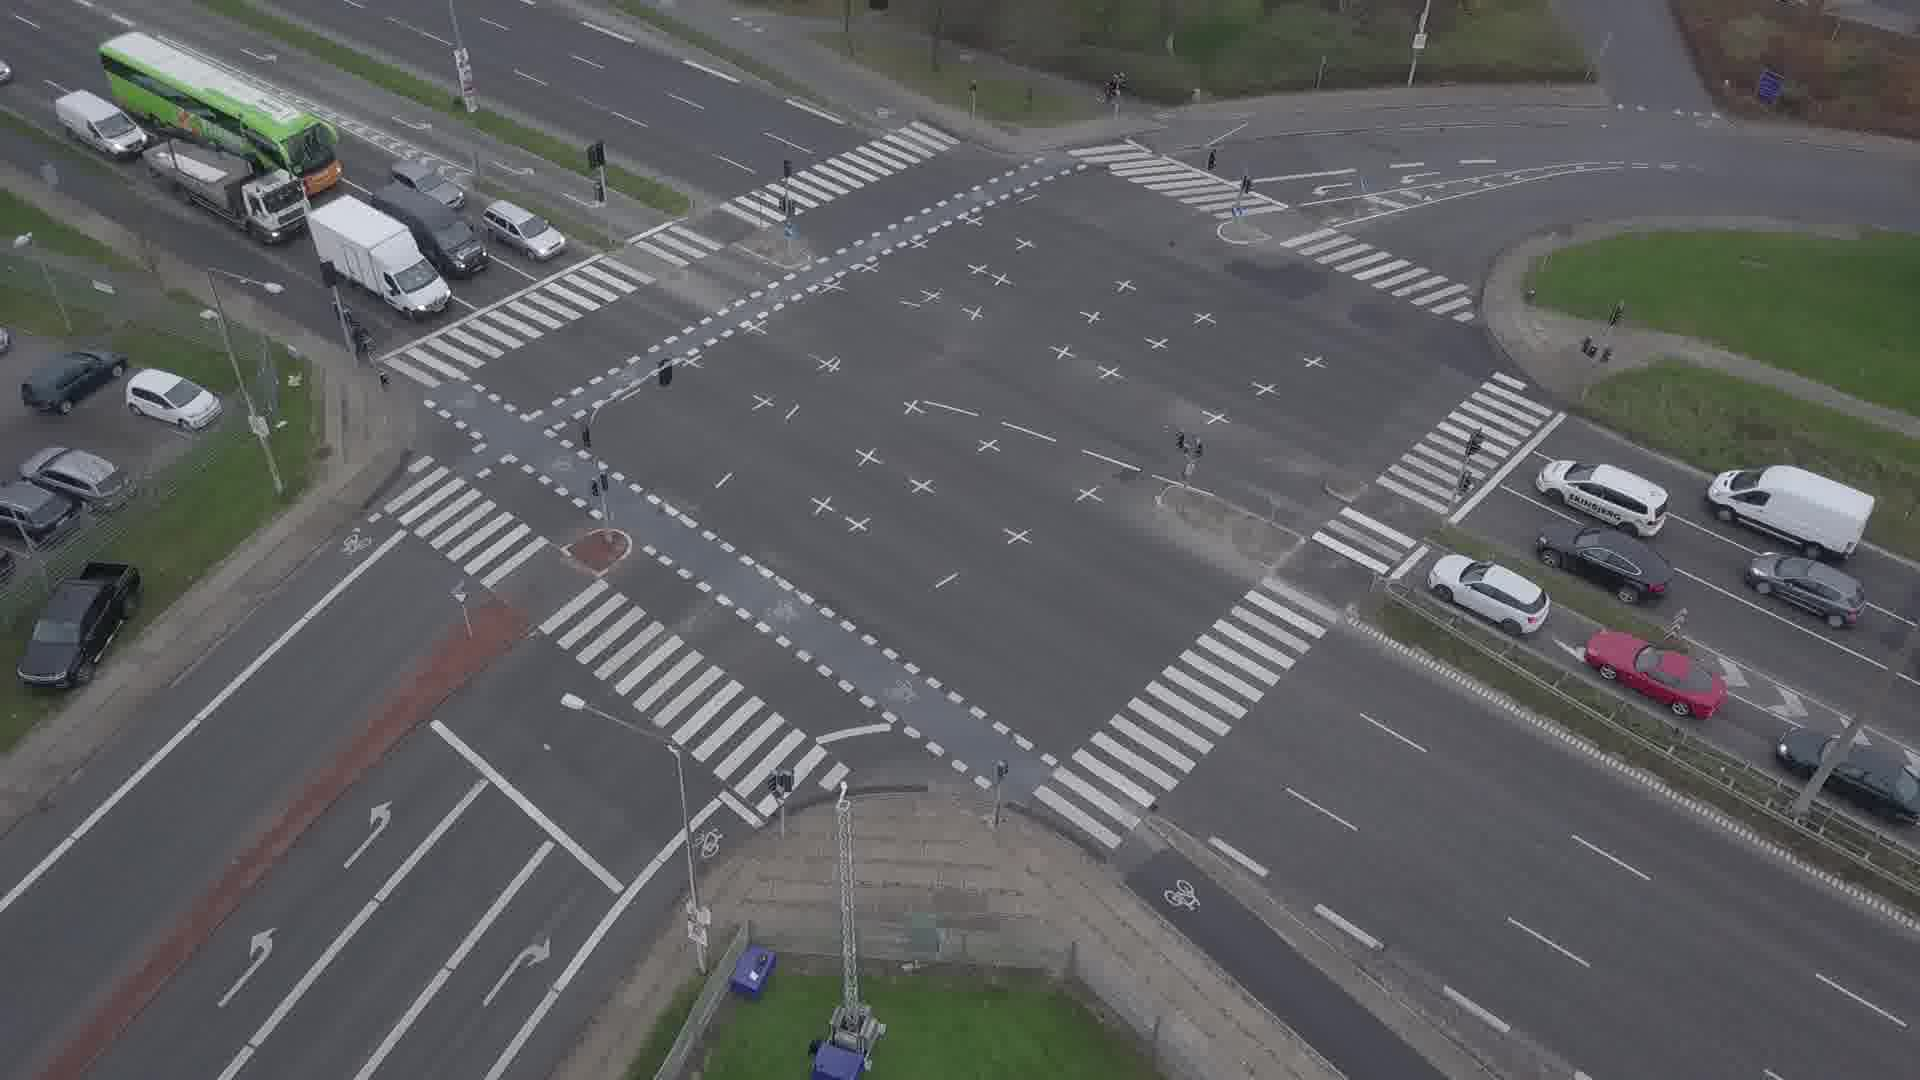bicycle: (1091, 78, 1128, 116), (345, 318, 376, 361)
bus: (95, 28, 340, 193)
car: (1776, 725, 1920, 817), (1585, 628, 1729, 718), (1536, 524, 1676, 606), (1533, 458, 1668, 536), (1428, 554, 1551, 635), (1746, 550, 1869, 628), (480, 199, 567, 262), (386, 160, 467, 211), (0, 55, 11, 86)
lorry: (141, 120, 311, 242), (306, 192, 452, 319), (1702, 464, 1874, 563), (365, 179, 486, 276), (54, 88, 149, 159)
